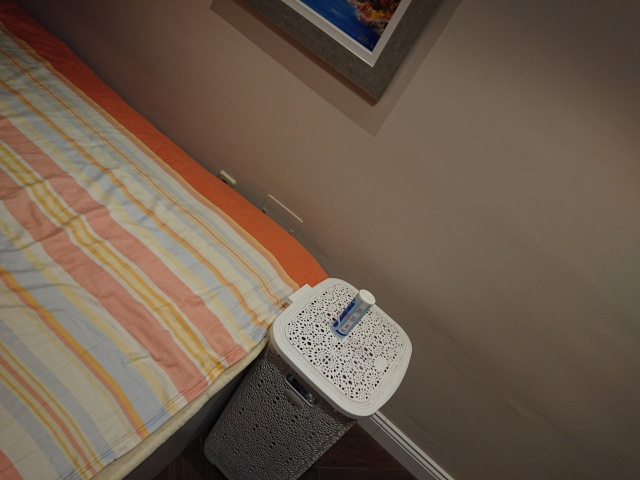Solana Pag Fine Sea Salt 250g: (329, 286, 377, 341)
